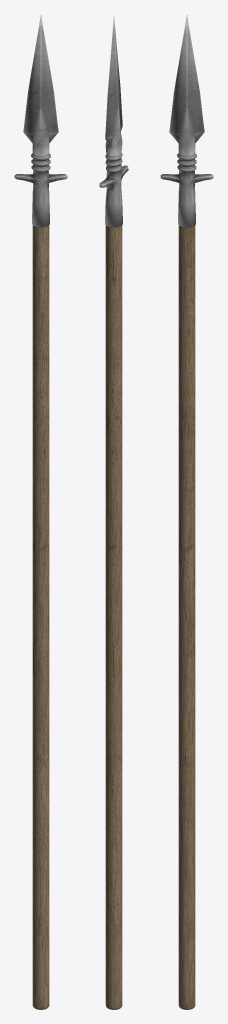
The model's file is SM_Spear_02.fbx.
3 renders of one model, left to right at view 1: azimuth 90°, elevation 25°; view 2: azimuth 150°, elevation 25°; view 3: azimuth 270°, elevation 25°, orthographic.
Visible parts, largest first — view 1: SM_Spear_02_LOD0; view 2: SM_Spear_02_LOD0; view 3: SM_Spear_02_LOD0.
Part boxes in pixels (x1,y1,x2,y2): SM_Spear_02_LOD0: (14,15,67,1009); SM_Spear_02_LOD0: (99,16,128,1009); SM_Spear_02_LOD0: (160,15,213,1009).
Bounding box in the file's own units: 3.14 × 9.09 × 188.
1 material, 1 textured.
